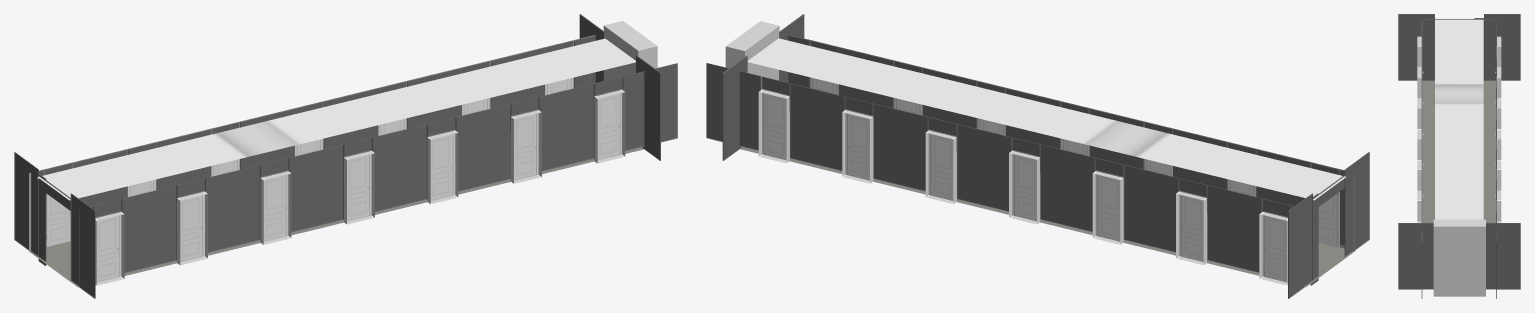
File: corridor.glb
The picture shows the model from 3 angles, left to right: view 1: azimuth 30°, elevation 25°; view 2: azimuth 150°, elevation 25°; view 3: azimuth 270°, elevation 25°; orthographic projection. The views are drawn at different scales.
Parts seen in each view (by area): view 1: Cube.004_4, Cube_1, Cube.002_2, Cube.005_5, Cube.003_3, Cube.001_0, Cube, Cube.002; view 2: Cube.004_4, Cube_1, Cube.001_0, Cube.005_5, Cube.003_3, Cube.002_2, Cube, Cube.002; view 3: Cube_1, Cube.005_5, Cube, Cube.001_0, Cube.002_2, Cube.004_4, Cube.001, Cube.003_3, Cube.002.
Boxes of the visible parts, bbox=[...] form: Cube.004_4: bbox=[31, 35, 677, 283]; Cube_1: bbox=[29, 35, 643, 287]; Cube.002_2: bbox=[95, 90, 625, 285]; Cube.005_5: bbox=[14, 14, 660, 298]; Cube.003_3: bbox=[44, 40, 622, 217]; Cube.001_0: bbox=[46, 78, 573, 246]; Cube: bbox=[603, 21, 657, 93]; Cube.002: bbox=[38, 174, 46, 265]; Cube.004_4: bbox=[706, 35, 1344, 272]; Cube_1: bbox=[740, 35, 1355, 287]; Cube.001_0: bbox=[758, 89, 1287, 285]; Cube.005_5: bbox=[722, 14, 1369, 298]; Cube.003_3: bbox=[761, 40, 1339, 217]; Cube.002_2: bbox=[810, 77, 1339, 247]; Cube: bbox=[725, 21, 779, 93]; Cube.002: bbox=[1310, 193, 1318, 285]; Cube_1: bbox=[1422, 18, 1495, 289]; Cube.005_5: bbox=[1398, 14, 1520, 289]; Cube: bbox=[1433, 219, 1485, 296]; Cube.001_0: bbox=[1495, 36, 1501, 222]; Cube.002_2: bbox=[1417, 36, 1423, 222]; Cube.004_4: bbox=[1421, 21, 1496, 298]; Cube.001: bbox=[1422, 19, 1495, 28]; Cube.003_3: bbox=[1421, 26, 1496, 222]; Cube.002: bbox=[1474, 18, 1484, 80].
Size of the model in its own units: 19.85 by 3.07 by 4.63.
Materials: 6 (1 with a texture image).
